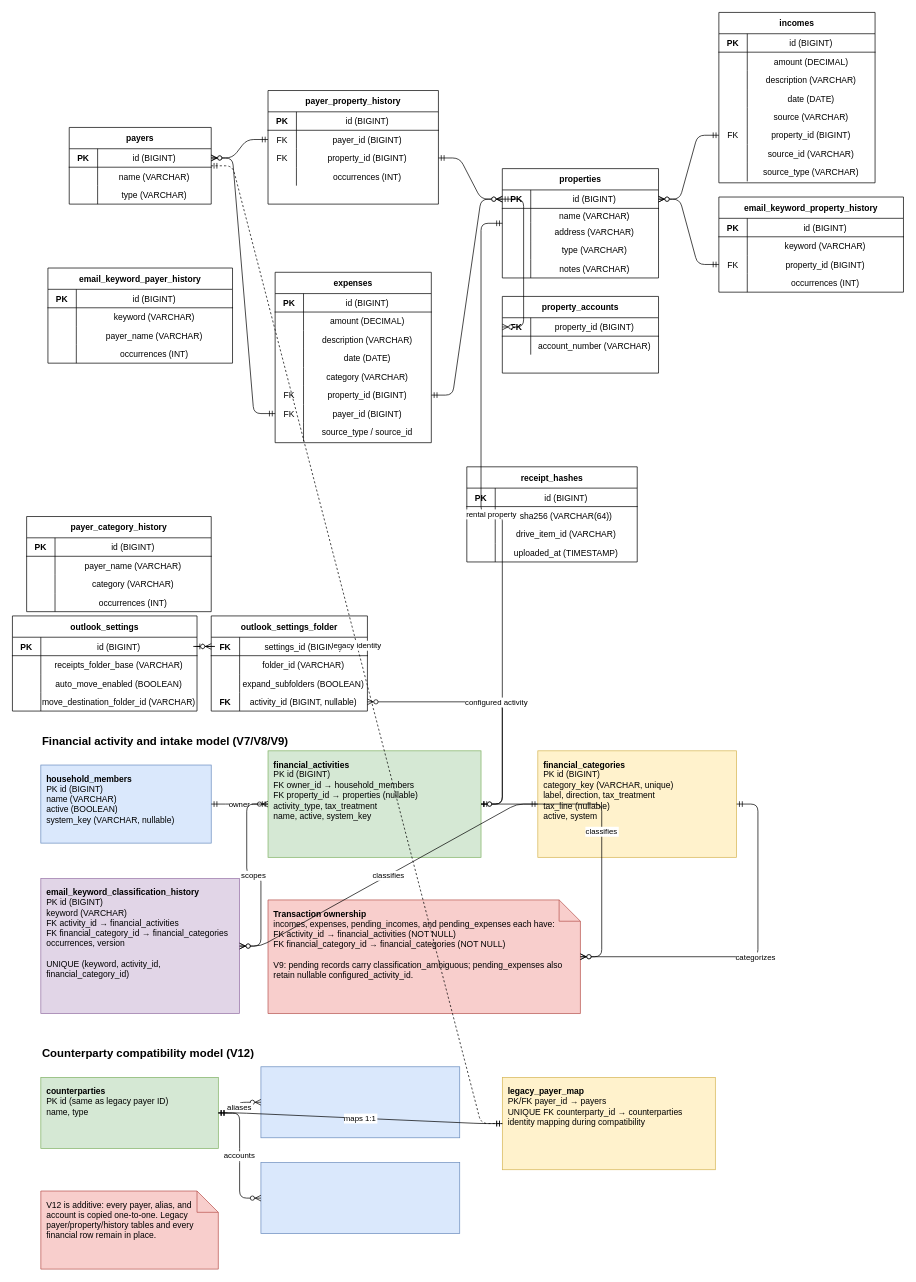
The diagram is 916 pixels wide and 1282 high, and some of its shapes have lost their labels. Each missing label, with the centre of its shape:
"counterparty_accounts FK counterparty_id → counterparties account_number" goes at (x=360, y=1198).
"counterparty_aliases FK counterparty_id → counterparties alias" goes at (x=360, y=1102).
